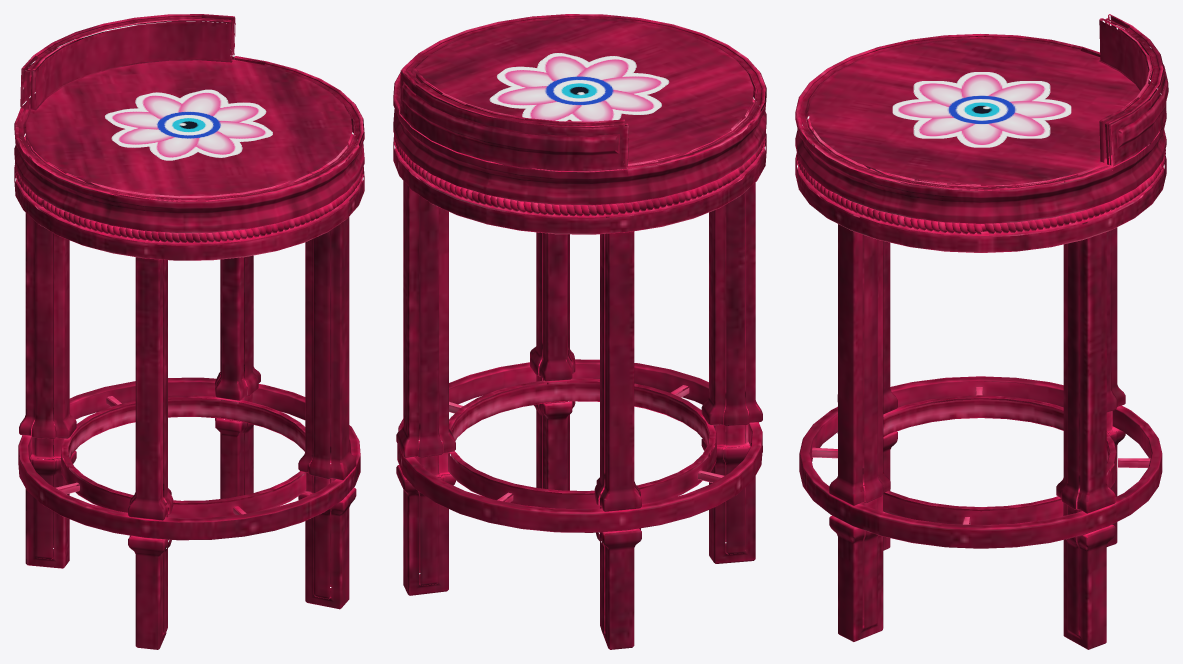
File: nyb_batteries_stool.glb
3 views of the same model, side by side, from view 1: azimuth 30°, elevation 25°; view 2: azimuth 150°, elevation 25°; view 3: azimuth 270°, elevation 25° (orthographic). The views are drawn at different scales.
Visible parts, largest first — view 1: bar_chair_round_01, stk_eyeflower_die.png; view 2: bar_chair_round_01, stk_eyeflower_die.png; view 3: bar_chair_round_01, stk_eyeflower_die.png.
Boxes of the visible parts, bbox=[...] form: bar_chair_round_01: bbox=[14, 14, 364, 649]; stk_eyeflower_die.png: bbox=[105, 89, 272, 160]; bar_chair_round_01: bbox=[393, 14, 766, 649]; stk_eyeflower_die.png: bbox=[489, 53, 669, 121]; bar_chair_round_01: bbox=[795, 14, 1168, 649]; stk_eyeflower_die.png: bbox=[892, 72, 1071, 147].
Size of the model in its own units: 0.4831 by 0.7505 by 0.486.
Materials: 2 (2 with a texture image).
